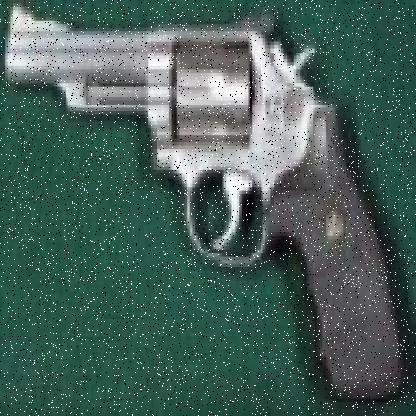pistol: (5, 7, 408, 406)
